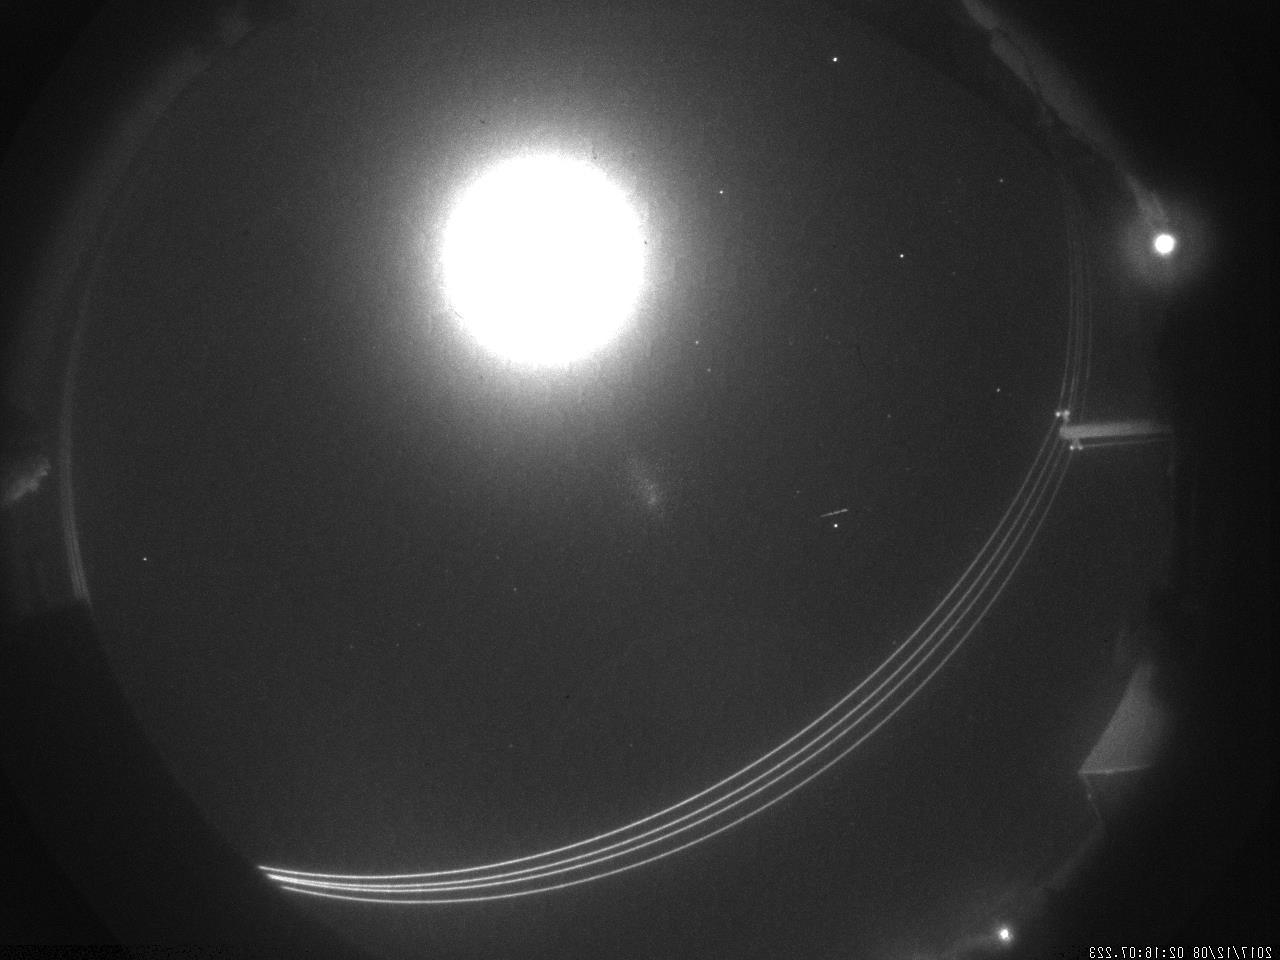meteor: (813, 498, 856, 526)
